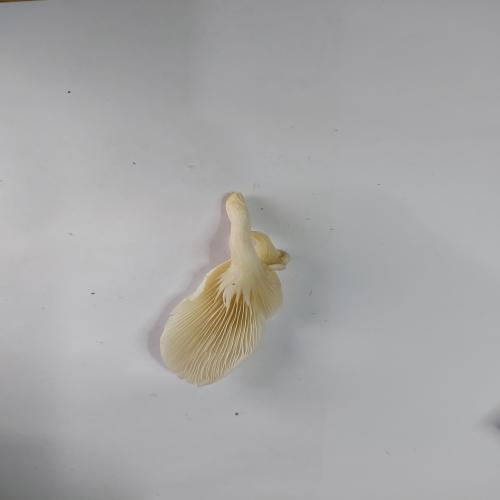Oyster Mushroom: (158, 190, 291, 387)
